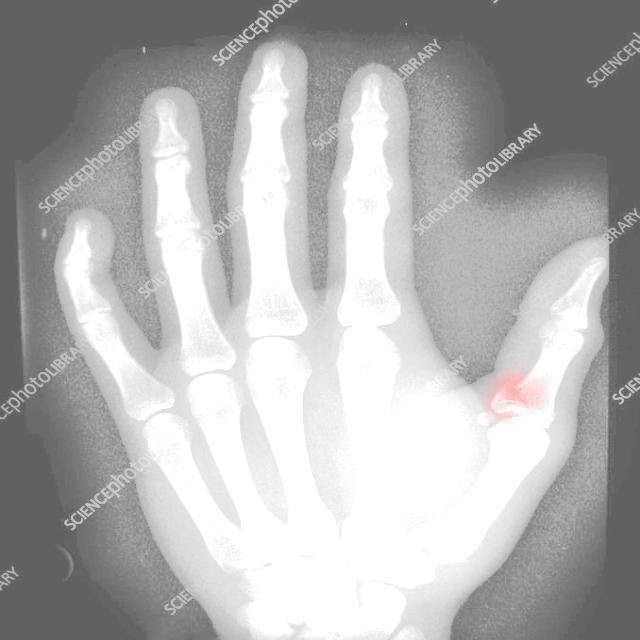Avlusion Fracture: (472, 382, 532, 433)
